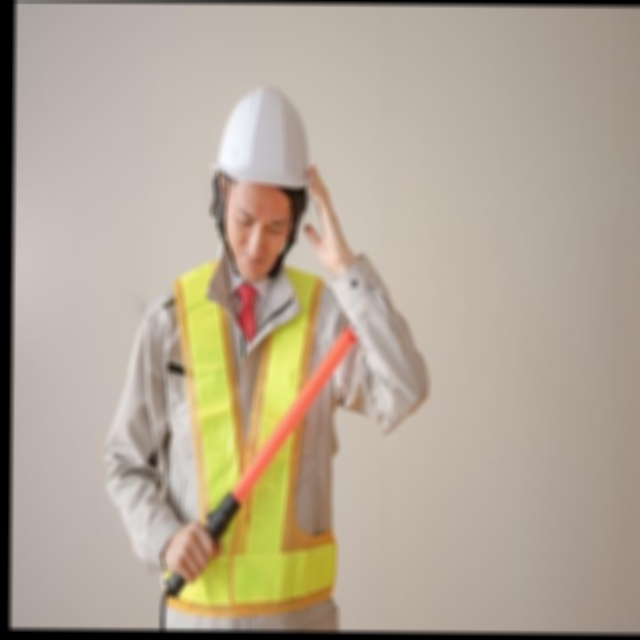Con_Casco: (209, 86, 309, 268)
Con_Chaleco: (169, 263, 337, 604)
